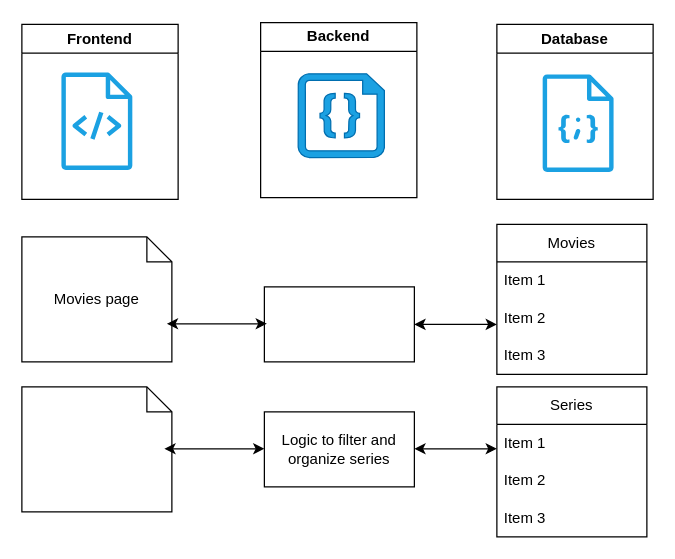
The diagram is 675 pixels wide and 559 high, and some of its shapes have lost their labels. The centre of each missing label's shape, as x and y in pixels:
Logic to filter and organize movies: point 338,324
Series page: point 96,449
